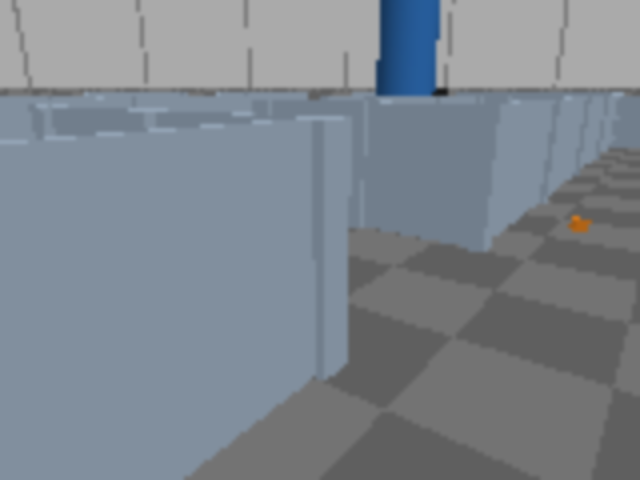puck: (570, 217, 591, 233)
